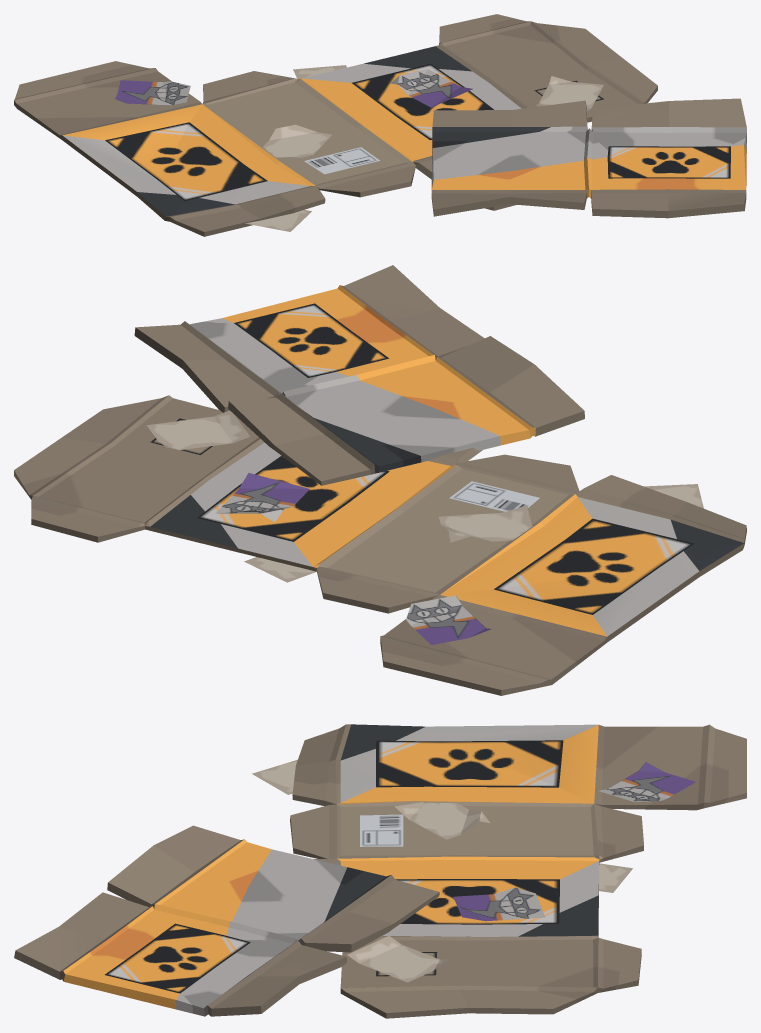
Rendered from SM_Prop_Cardboard_Junk_02.fbx.
The picture shows the model from 3 angles, top to bottom: view 1: azimuth 30°, elevation 25°; view 2: azimuth 150°, elevation 25°; view 3: azimuth 270°, elevation 25°; orthographic projection. The views are drawn at different scales.
Parts seen in each view (by area): view 1: SM_Prop_Cardboard_Junk_02; view 2: SM_Prop_Cardboard_Junk_02; view 3: SM_Prop_Cardboard_Junk_02.
Part boxes in pixels (x1,y1,x2,y2): SM_Prop_Cardboard_Junk_02: (14, 14, 746, 236); SM_Prop_Cardboard_Junk_02: (14, 265, 746, 695); SM_Prop_Cardboard_Junk_02: (14, 724, 746, 1018).
Bounding box in the file's own units: 274 × 14.49 × 282.
